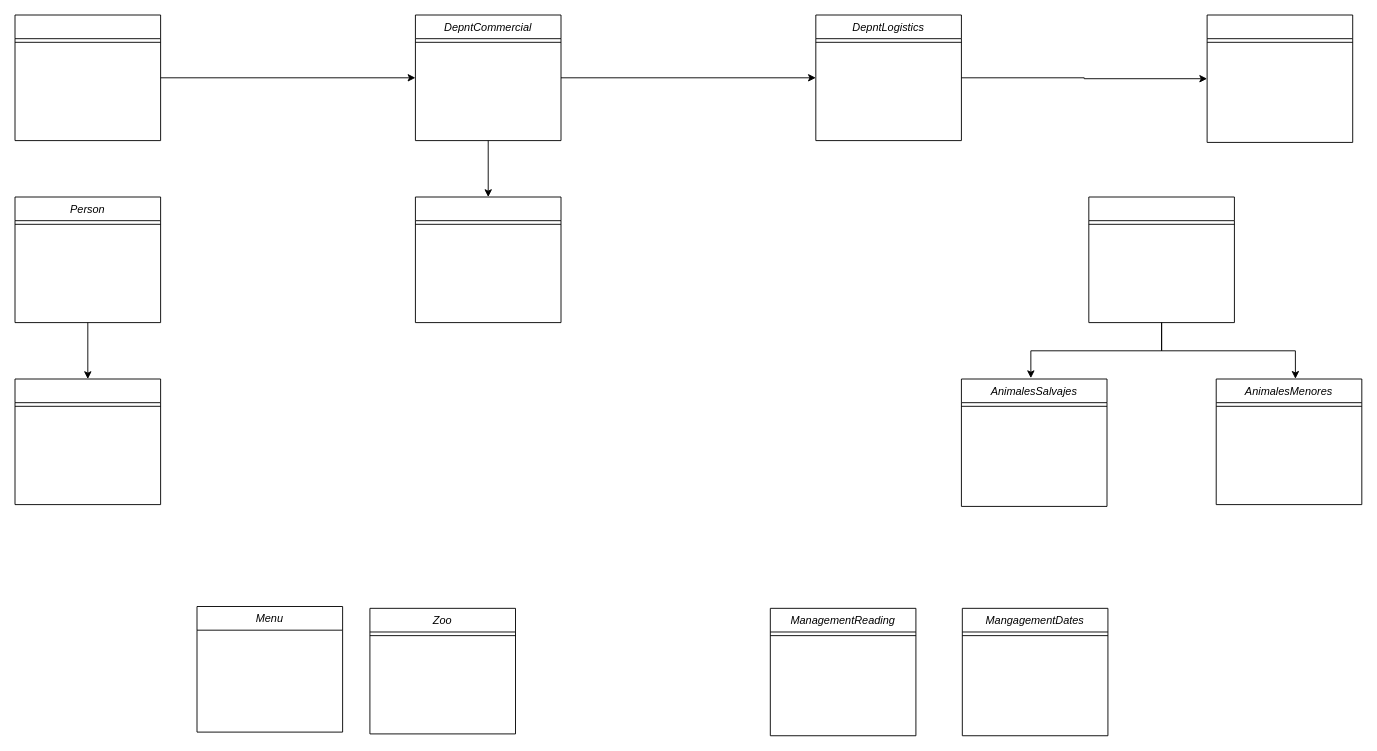
This 1377x751 diagram has some shape labels left out. The shapes that lost their labels are listed below. From the top down, each one's centre as x and y in pixels, then its label:
the point at 87,77: DepntGeneral
the point at 1279,78: ManagementAnimal
the point at 488,259: Plans
the point at 1161,259: Animal
the point at 87,441: User
